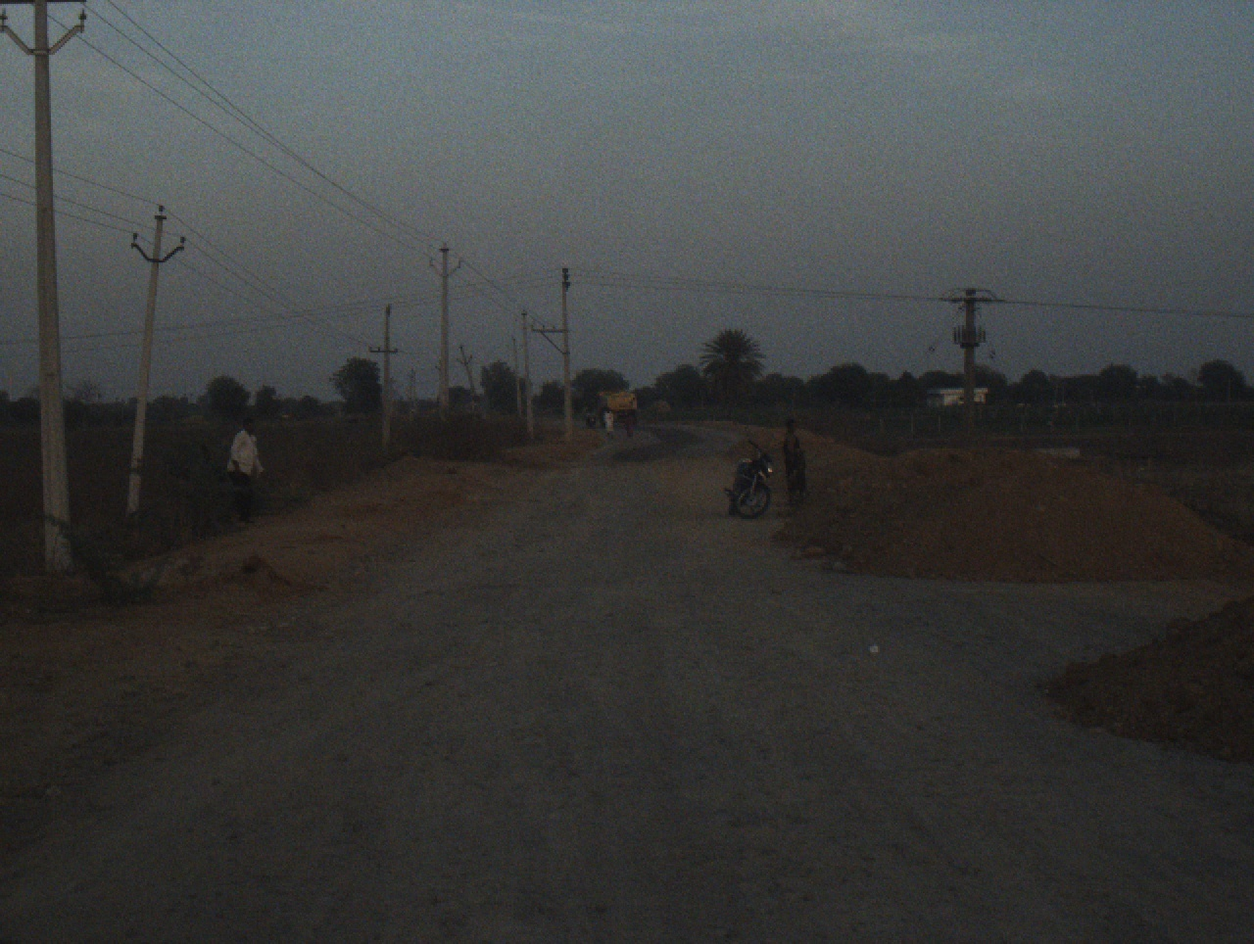motorcycle: (719, 433, 776, 513)
person: (227, 420, 266, 515), (773, 411, 810, 497), (622, 402, 637, 433), (603, 399, 617, 431)
truck: (585, 386, 641, 427)
